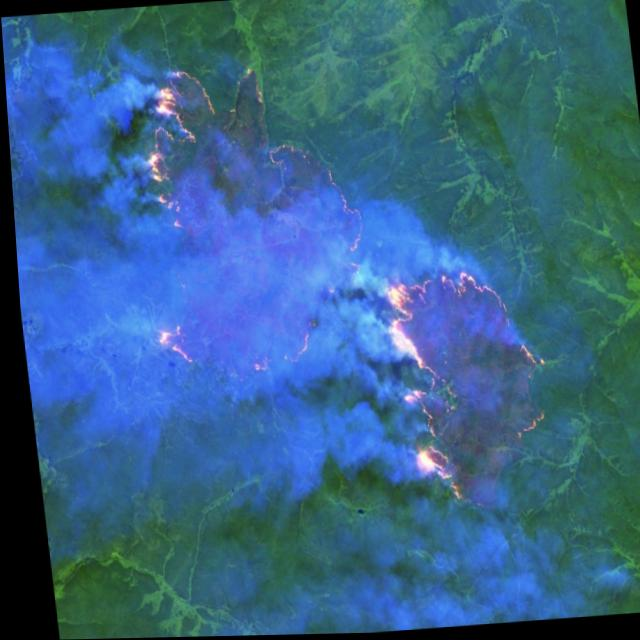fire: (116, 52, 379, 392), (369, 258, 561, 515)
